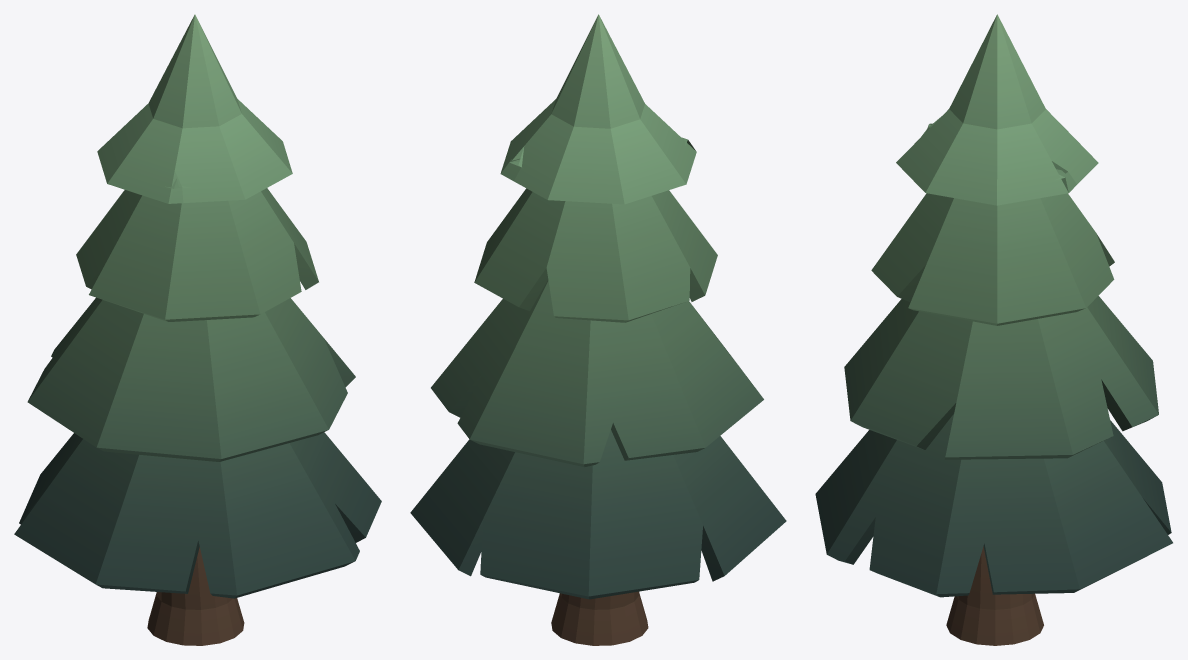
The model's file is Tree2.fbx.
3 views of the same model, side by side, from view 1: azimuth 30°, elevation 25°; view 2: azimuth 150°, elevation 25°; view 3: azimuth 270°, elevation 25° (orthographic).
Visible parts, largest first — view 1: tree2; view 2: tree2; view 3: tree2.
Boxes of the visible parts, x1,y1,x2,y2 form: tree2: [14, 14, 381, 645]; tree2: [410, 14, 786, 645]; tree2: [815, 14, 1172, 645].
Size of the model in its own units: 449 by 847 by 449.
